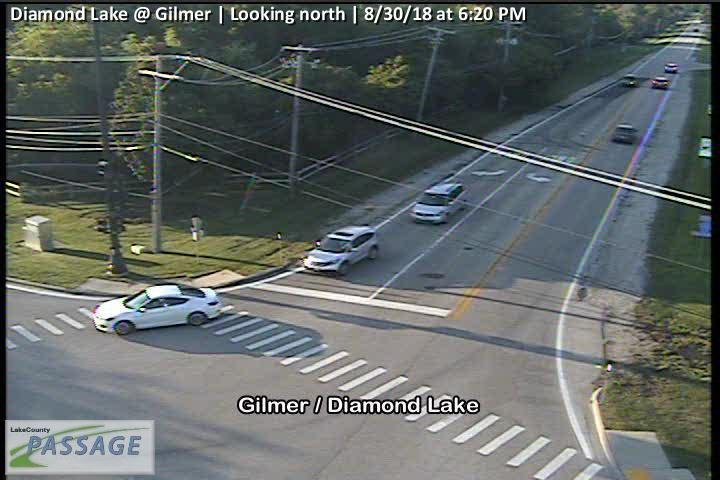SUV: (303, 225, 378, 276), (408, 181, 468, 225), (612, 123, 638, 146), (622, 73, 638, 87), (651, 76, 668, 89), (664, 62, 678, 73)
Sedan: (93, 282, 221, 335)
